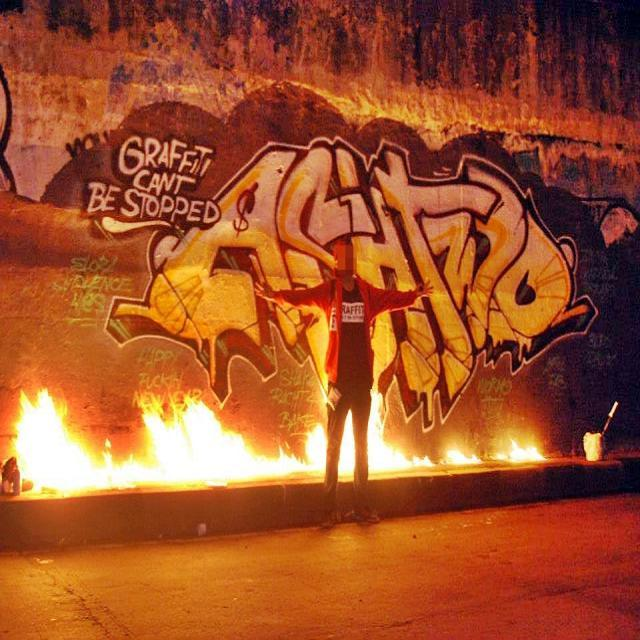-: (72, 134, 598, 434), (56, 248, 132, 320)
